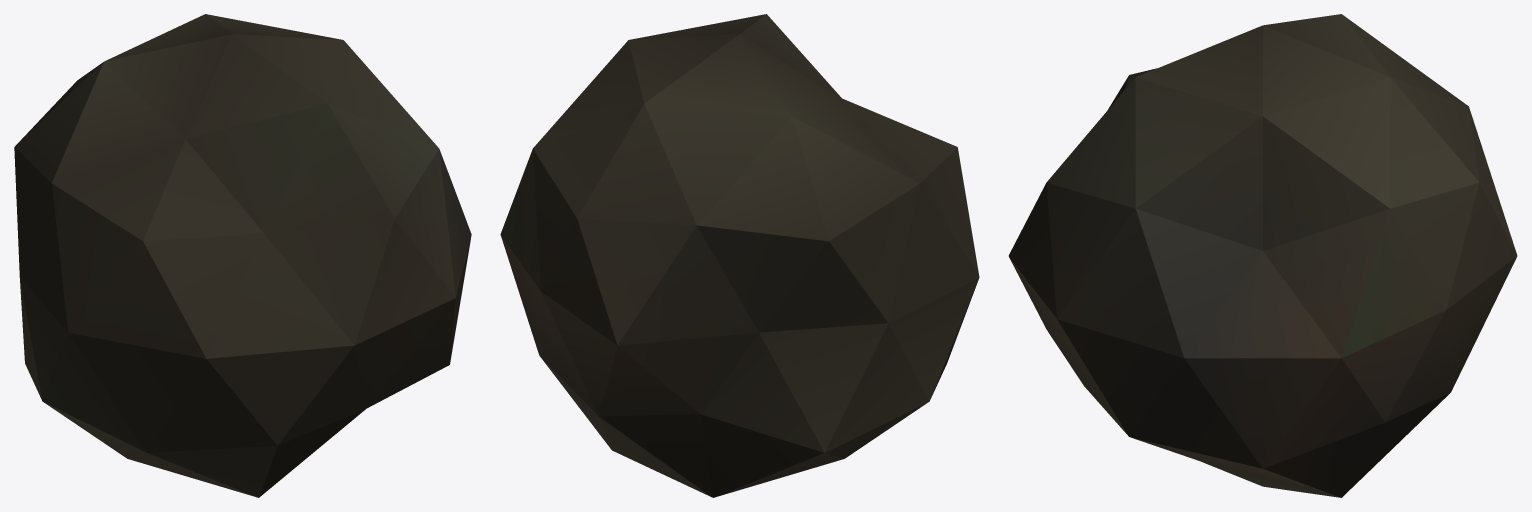
Rendered from asteroid.fbx.
3 views of the same model, side by side, from view 1: azimuth 30°, elevation 25°; view 2: azimuth 150°, elevation 25°; view 3: azimuth 270°, elevation 25° (orthographic). The views are drawn at different scales.
Parts seen in each view (by area): view 1: Icosphere; view 2: Icosphere; view 3: Icosphere.
Part boxes in pixels (x1=…): Icosphere: x1=14, y1=14, x2=471, y2=497; Icosphere: x1=500, y1=14, x2=979, y2=497; Icosphere: x1=1008, y1=14, x2=1517, y2=497.
Size of the model in its own units: 1339 by 1408 by 1408.
